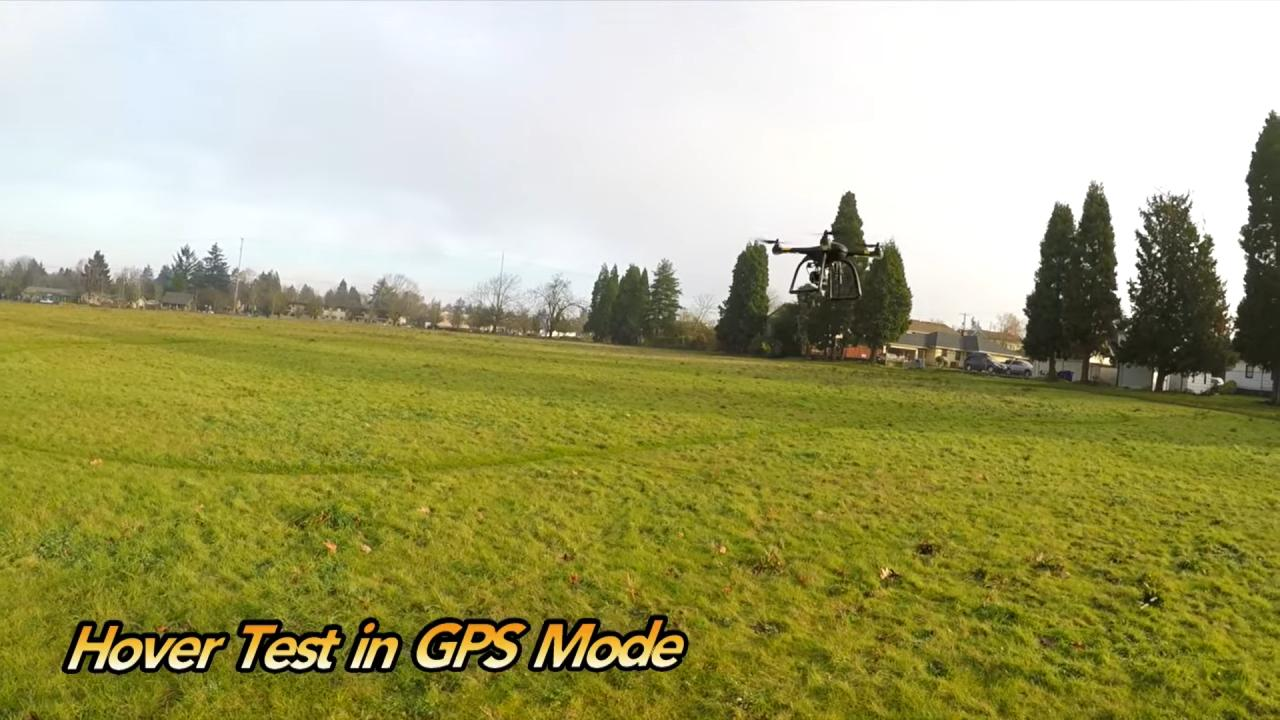Drone: (751, 226, 899, 314)
